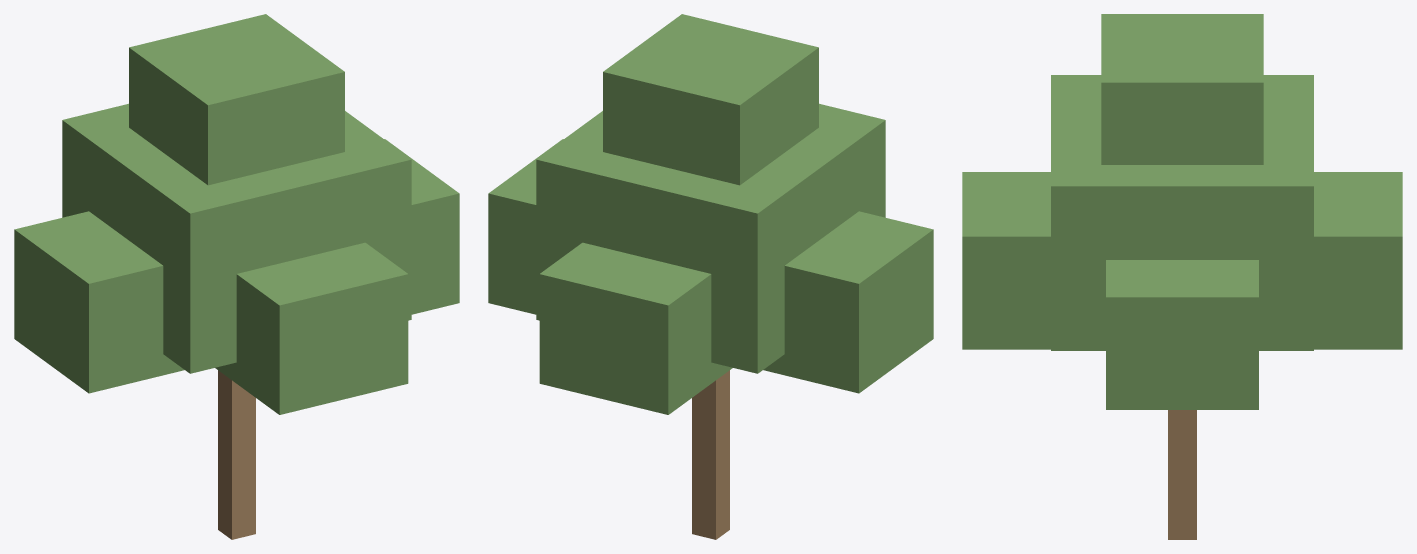
The model's file is Prop_DS_Tree_12.glb.
3 renders of one model, left to right at view 1: azimuth 30°, elevation 25°; view 2: azimuth 150°, elevation 25°; view 3: azimuth 270°, elevation 25°, orthographic. The views are drawn at different scales.
Parts seen in each view (by area): view 1: Cube.001, Cube.006, Cube.005, Cube.003, Cube.002, Cube; view 2: Cube.001, Cube.006, Cube.004, Cube.003, Cube.002, Cube; view 3: Cube.001, Cube.006, Cube.002, Cube.004, Cube.005, Cube.
Part boxes in pixels (x1,y1,x2,y2): Cube.001: (62, 103, 411, 373); Cube.006: (129, 14, 344, 185); Cube.005: (215, 242, 408, 414); Cube.003: (14, 211, 184, 393); Cube.002: (384, 139, 459, 314); Cube: (218, 370, 255, 539); Cube.001: (536, 103, 885, 373); Cube.006: (603, 14, 818, 185); Cube.004: (539, 242, 732, 414); Cube.003: (763, 211, 933, 393); Cube.002: (488, 139, 563, 314); Cube: (692, 370, 729, 539); Cube.001: (1051, 75, 1313, 350); Cube.006: (1101, 14, 1263, 164); Cube.002: (1106, 260, 1258, 409); Cube.004: (1314, 172, 1402, 349); Cube.005: (962, 172, 1050, 349); Cube: (1168, 410, 1196, 539).
Size of the model in its own units: 4.6 by 5.6 by 4.6.
